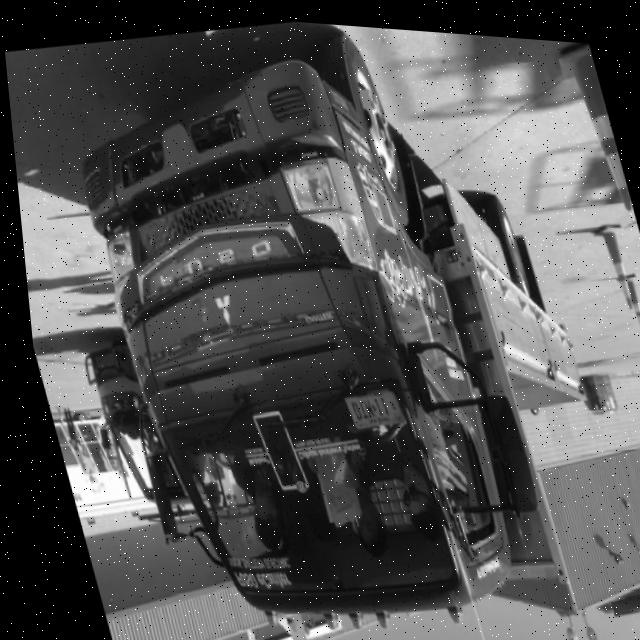truck: (12, 2, 570, 640)
